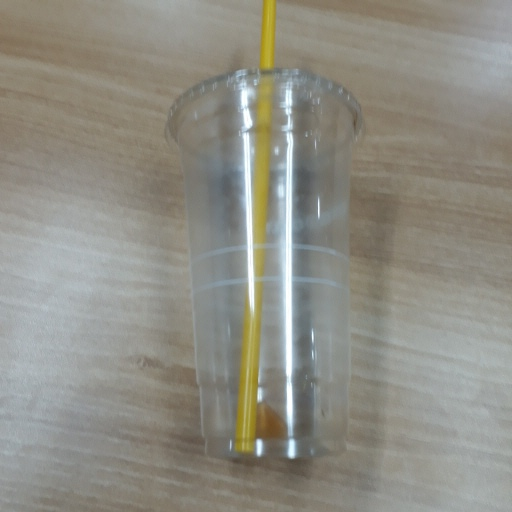Plastic_2: (158, 2, 363, 467)
